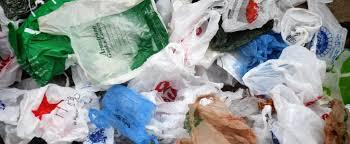Plastic: (34, 0, 170, 92), (242, 42, 331, 107), (180, 87, 254, 143), (92, 85, 157, 143)
